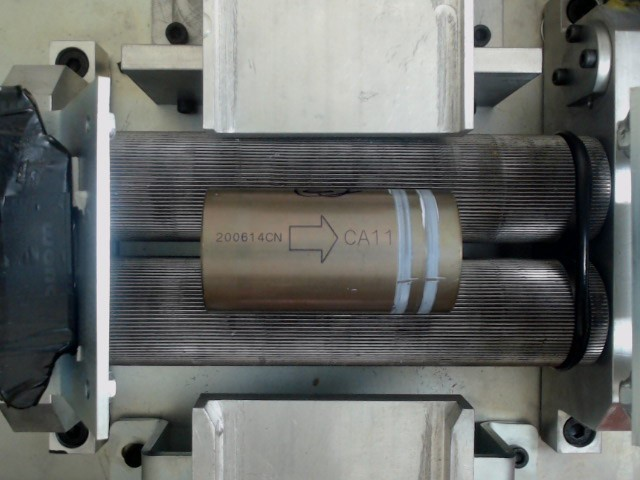arrow: (287, 213, 341, 266)
double_ringmark: (386, 191, 440, 313)
lotmark: (217, 228, 284, 245)
model_no: (343, 224, 393, 251)
